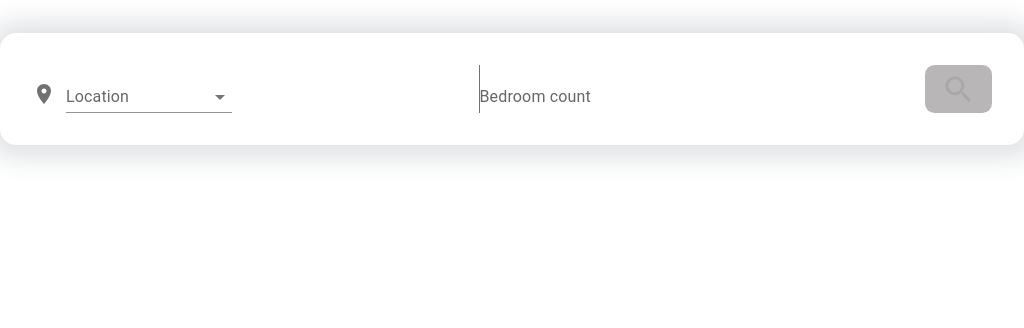
Test: MainSearch component › should select autocomplete option
This screenshot has width=1024, height=328.
Type "t" into the dropdown with placeholder "Location" at (134, 96), box [66,81,202,112]
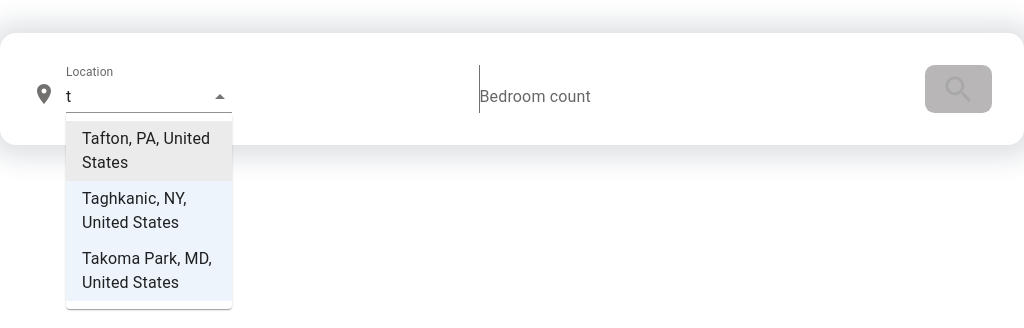
Press ArrowDown in the element with test id "autocomplete", box [66,65,232,113]
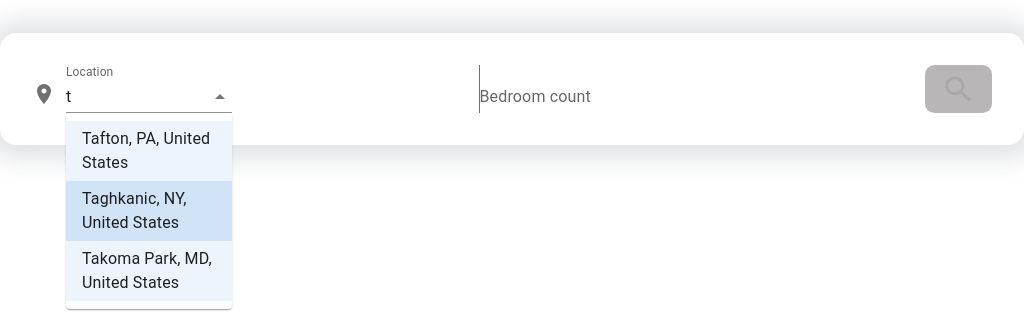
Press Enter in the element with test id "autocomplete", box [66,65,232,113]
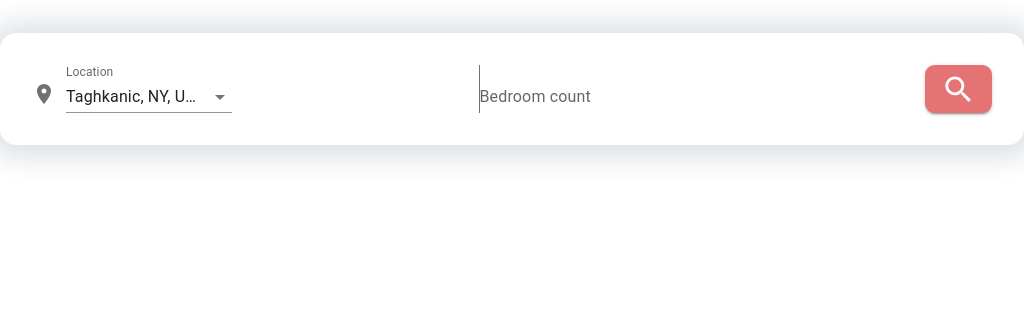
Result: the dropdown with placeholder "Location" holds "Taghkanic, NY, United States" at [66,81,202,112]
